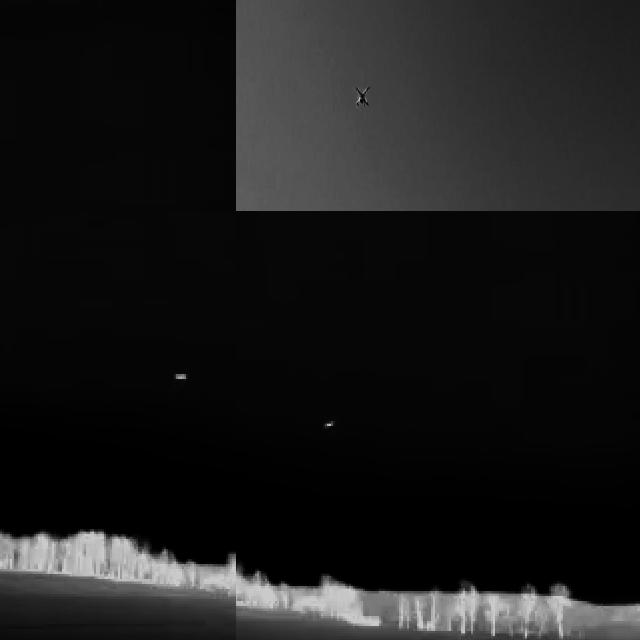1: (312, 412, 346, 448), (165, 365, 197, 395)
drone: (352, 82, 374, 114)
